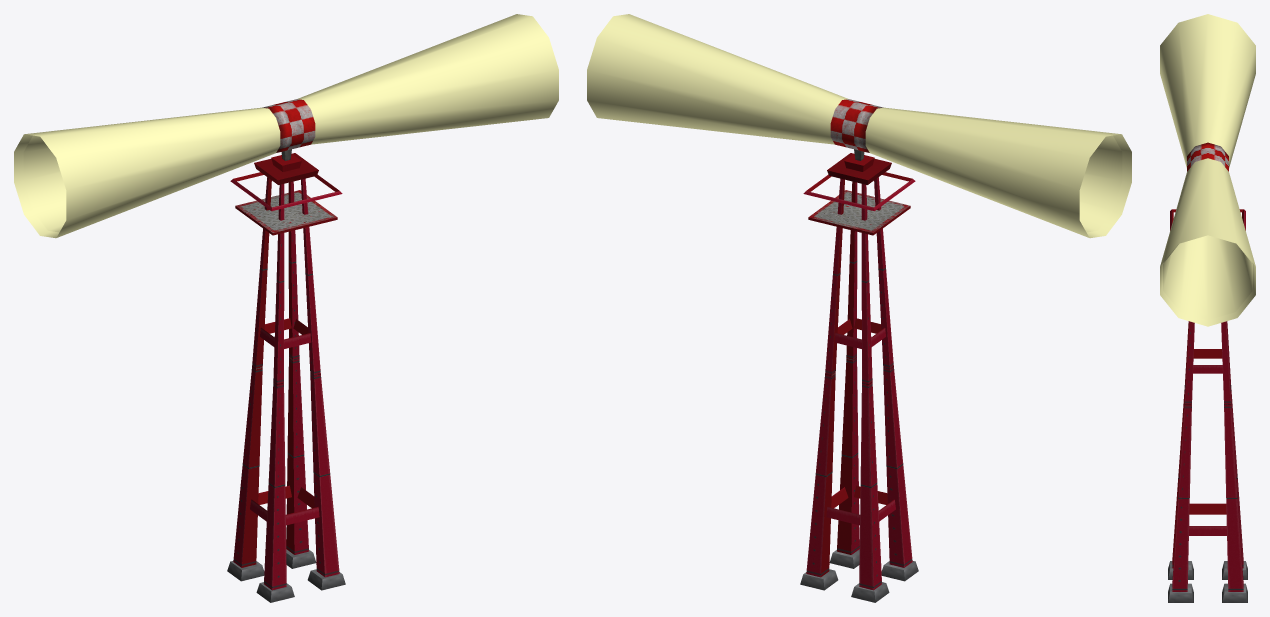
File: Tower_Spotlight.fbx
The picture shows the model from 3 angles, left to right: view 1: azimuth 30°, elevation 25°; view 2: azimuth 150°, elevation 25°; view 3: azimuth 270°, elevation 25°; orthographic projection. The views are drawn at different scales.
Parts seen in each view (by area): view 1: glow, Tower, Spotlight; view 2: glow, Tower, Spotlight; view 3: glow, Tower, Spotlight.
Boxes of the visible parts, left/top/right/bottom form: glow: left=14, top=14, right=558, bottom=238; Tower: left=227, top=149, right=345, bottom=602; Spotlight: left=262, top=99, right=315, bottom=152; glow: left=587, top=14, right=1131, bottom=238; Tower: left=800, top=149, right=918, bottom=602; Spotlight: left=830, top=99, right=883, bottom=152; glow: left=1160, top=14, right=1255, bottom=326; Tower: left=1168, top=209, right=1247, bottom=602; Spotlight: left=1187, top=142, right=1228, bottom=171.
Size of the model in its own units: 77.31 by 75.17 by 14.17.
